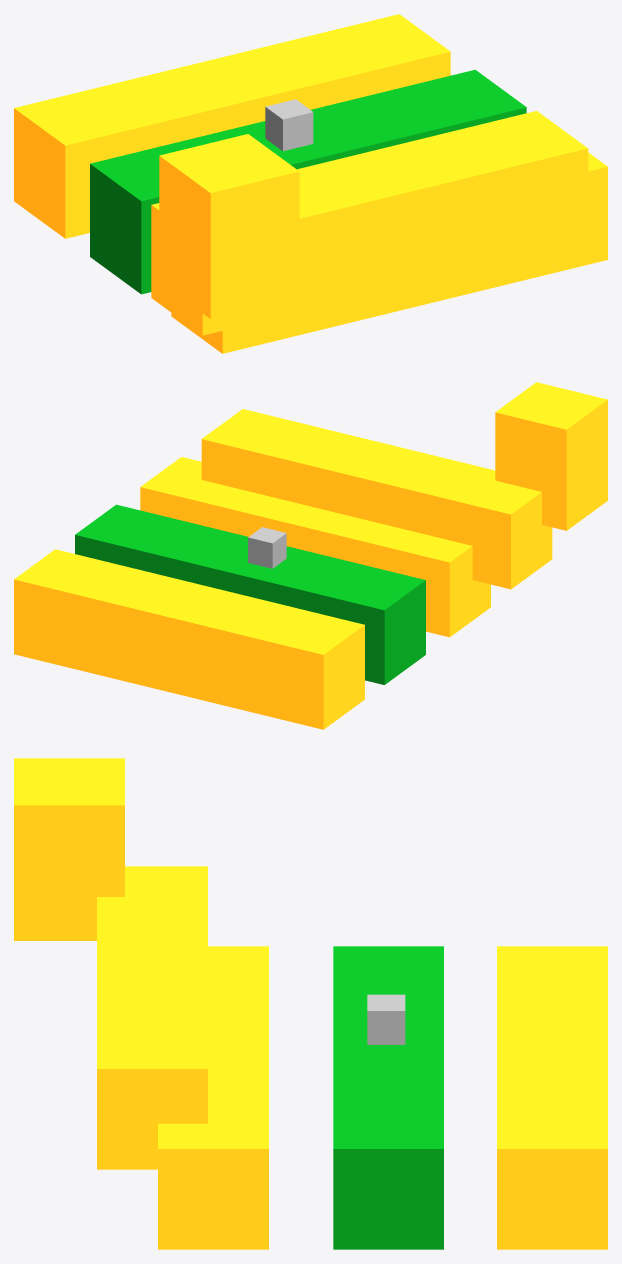
The model's file is level-demo.glb.
3 renders of one model, top to bottom at view 1: azimuth 30°, elevation 25°; view 2: azimuth 150°, elevation 25°; view 3: azimuth 270°, elevation 25°, orthographic. The views are drawn at different scales.
Parts seen in each view (by area): view 1: Cube.001, Cube.005, Cube.002, Cube.004, Cube, Cube.006; view 2: Cube.005, Cube.001, Cube.004, Cube, Cube.002, Cube.006; view 3: Cube.005, Cube.004, Cube.001, Cube, Cube.002, Cube.006.
Boxes of the visible parts, <box> form: Cube.001: <box>151,111,588,335</box>; Cube.005: <box>14,14,450,238</box>; Cube.002: <box>159,134,299,318</box>; Cube.004: <box>90,69,526,294</box>; Cube: <box>171,152,607,353</box>; Cube.006: <box>265,99,313,151</box>; Cube.005: <box>14,549,364,729</box>; Cube.001: <box>201,409,552,589</box>; Cube.004: <box>75,504,425,684</box>; Cube: <box>140,457,490,637</box>; Cube.002: <box>495,382,607,530</box>; Cube.006: <box>248,527,286,568</box>; Cube.005: <box>497,946,607,1249</box>; Cube.004: <box>333,946,443,1249</box>; Cube.001: <box>97,866,207,1169</box>; Cube: <box>158,946,268,1249</box>; Cube.002: <box>14,758,124,940</box>; Cube.006: <box>367,994,405,1044</box>.
Bounding box in the file's own units: 2.02 × 0.9537 × 2.08.
